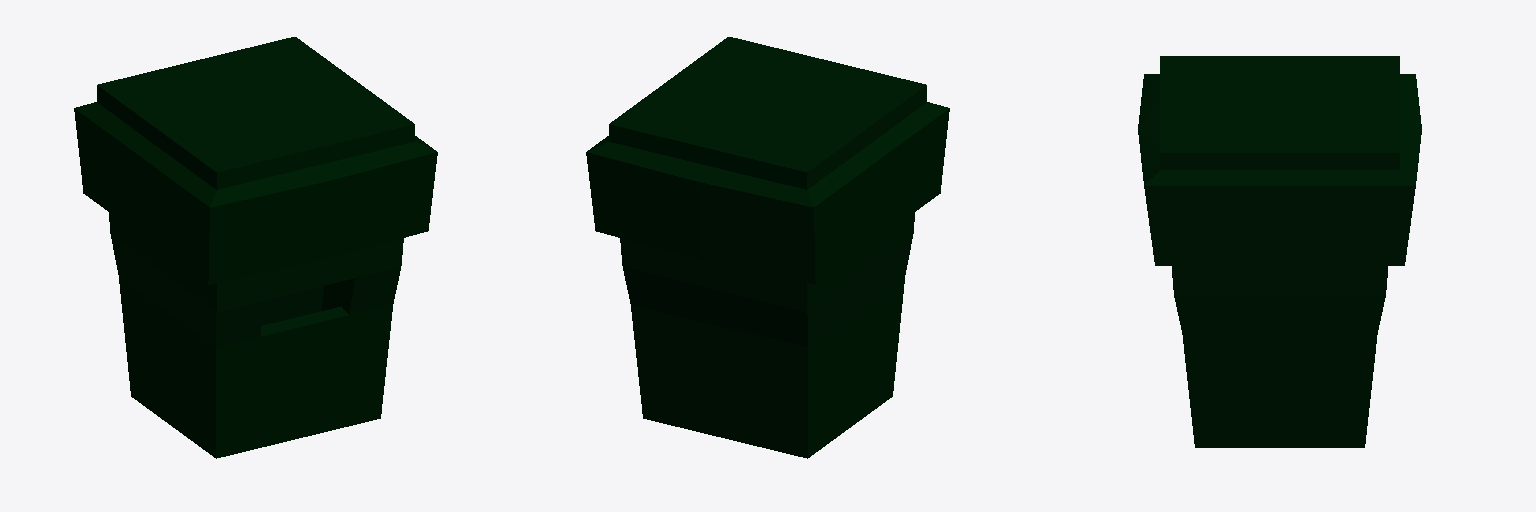
Rendered from trash_can.obj.
3 renders of one model, left to right at view 1: azimuth 30°, elevation 25°; view 2: azimuth 150°, elevation 25°; view 3: azimuth 270°, elevation 25°, orthographic.
Parts seen in each view (by area): view 1: Cube; view 2: Cube; view 3: Cube.
Boxes of the visible parts, <box> form: Cube: <box>74,37,437,458</box>; Cube: <box>586,37,949,458</box>; Cube: <box>1138,56,1421,447</box>.
Size of the model in its own units: 1.89 by 2.41 by 2.04.